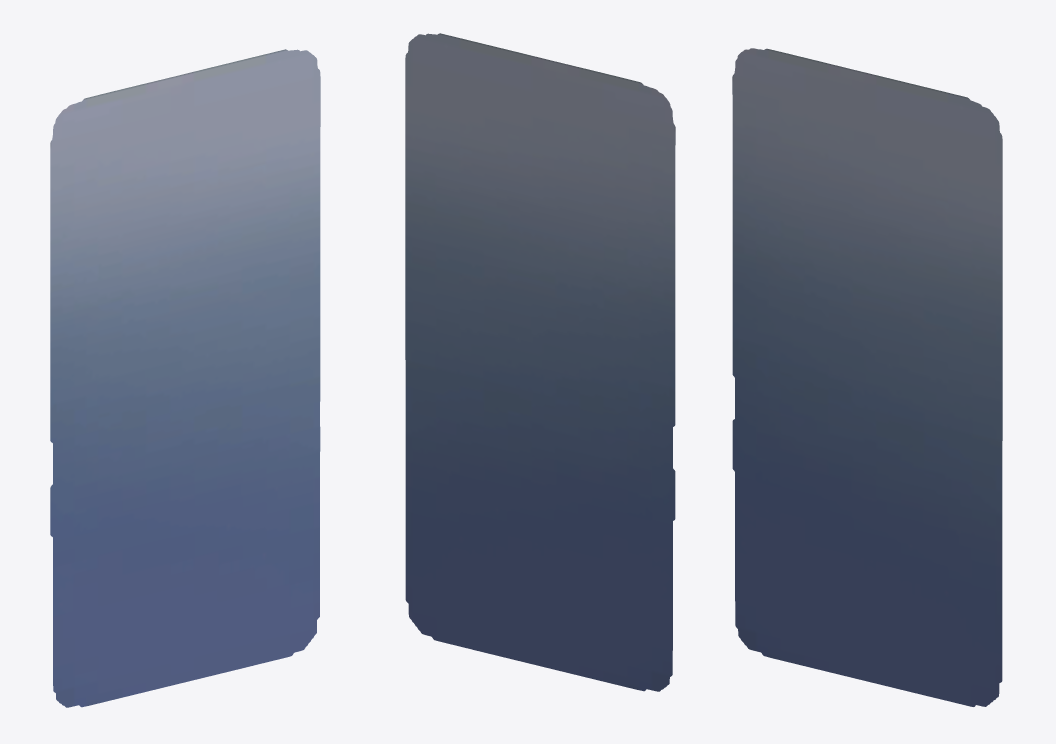
File: Player_Male_JingYuan_LookAtPhone_00.fbx
The picture shows the model from 3 angles, left to right: view 1: azimuth 30°, elevation 25°; view 2: azimuth 150°, elevation 25°; view 3: azimuth 330°, elevation 25°; orthographic projection.
Visible parts, largest first — view 1: LookAtPhone_00_Phone_Model; view 2: LookAtPhone_00_Phone_Model; view 3: LookAtPhone_00_Phone_Model.
Part boxes in pixels (box(x1,y1,x2,y2)): LookAtPhone_00_Phone_Model: box(50, 49, 320, 707); LookAtPhone_00_Phone_Model: box(405, 33, 675, 691); LookAtPhone_00_Phone_Model: box(732, 48, 1002, 706).
Bounding box in the file's own units: 0.0825 × 0.166 × 0.0101.
Materials: 1 (1 with a texture image).
